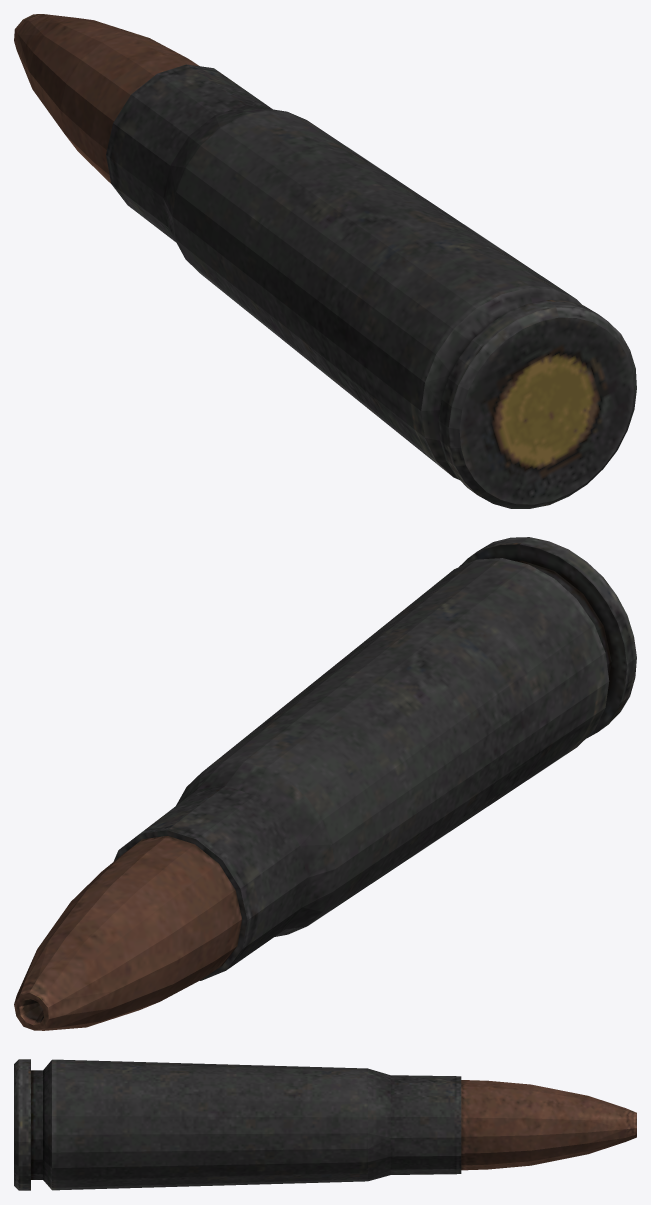
3 renders of one model, top to bottom at view 1: azimuth 30°, elevation 25°; view 2: azimuth 150°, elevation 25°; view 3: azimuth 270°, elevation 25°, orthographic. The views are drawn at different scales.
Visible parts, largest first — view 1: TW_59e4d3d286f774176a36250a_PZ_Import; view 2: TW_59e4d3d286f774176a36250a_PZ_Import; view 3: TW_59e4d3d286f774176a36250a_PZ_Import.
Boxes of the visible parts, box(x1,y1,x2,y2) form: TW_59e4d3d286f774176a36250a_PZ_Import: box(14, 14, 636, 508); TW_59e4d3d286f774176a36250a_PZ_Import: box(14, 537, 636, 1030); TW_59e4d3d286f774176a36250a_PZ_Import: box(14, 1059, 636, 1190).
Size of the model in its own units: 0.00655 by 0.0311 by 0.00654.
1 material, 1 textured.
